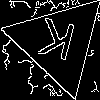K: (33, 17, 78, 70)
